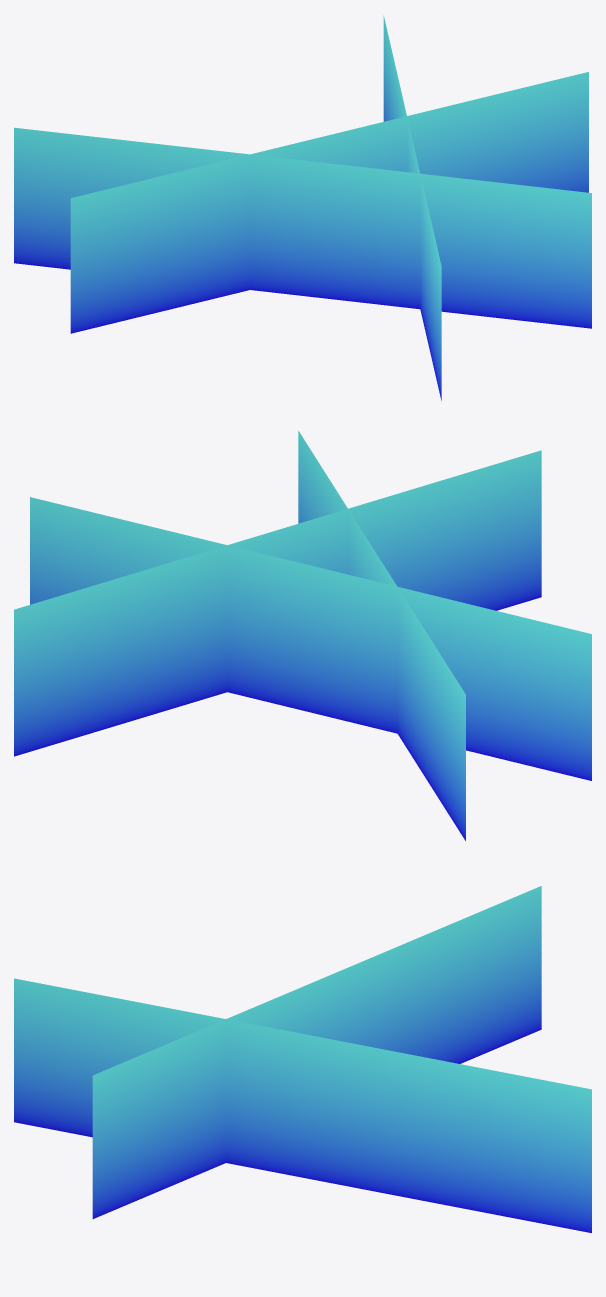
File: SM_Env_Grass_Short_Clump_01.glb
The picture shows the model from 3 angles, top to bottom: view 1: azimuth 30°, elevation 25°; view 2: azimuth 150°, elevation 25°; view 3: azimuth 270°, elevation 25°; orthographic projection. The views are drawn at different scales.
Parts seen in each view (by area): view 1: SM_Env_Grass_Short_Clump_01_LOD0; view 2: SM_Env_Grass_Short_Clump_01_LOD0; view 3: SM_Env_Grass_Short_Clump_01_LOD0.
Part boxes in pixels (x1,y1,x2,y2): SM_Env_Grass_Short_Clump_01_LOD0: (14,15,591,400); SM_Env_Grass_Short_Clump_01_LOD0: (14,431,591,840); SM_Env_Grass_Short_Clump_01_LOD0: (14,886,591,1232).
Size of what is drawn, in the model's own units: 1 by 0.25 by 0.9104.
